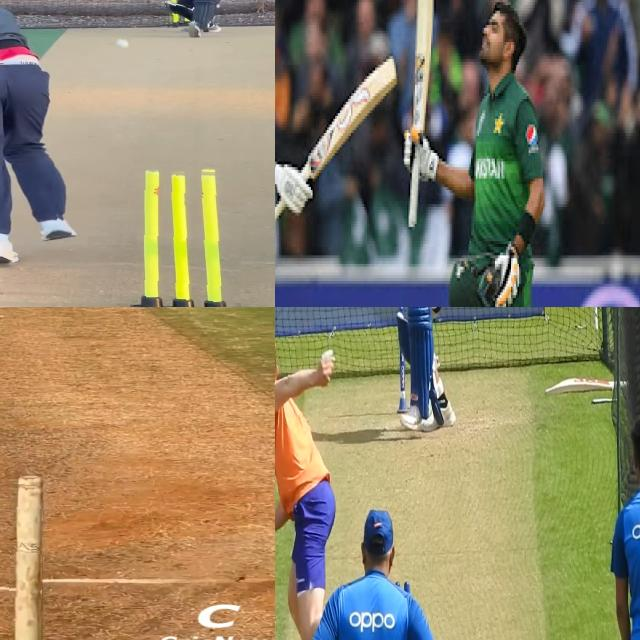Cricket ball: (114, 37, 132, 48)
Stumps: (128, 165, 242, 307), (0, 475, 44, 640), (163, 0, 195, 29)
